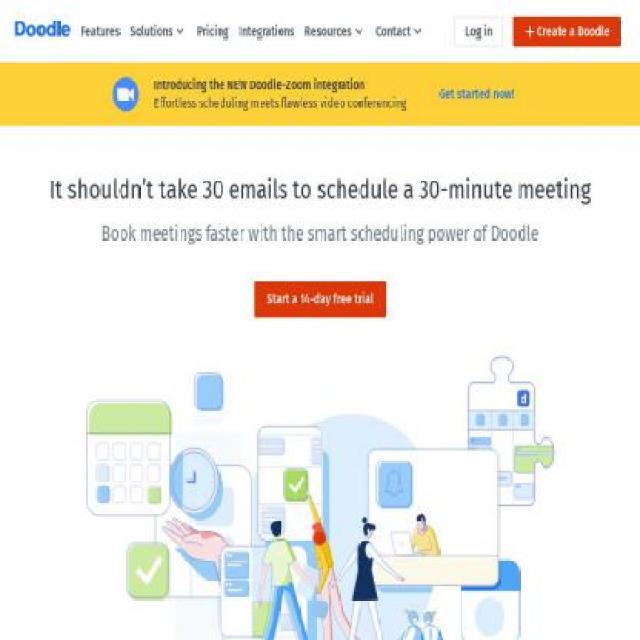button: (254, 280, 386, 318), (426, 76, 528, 112), (513, 16, 621, 47), (299, 16, 372, 47), (125, 16, 192, 47), (234, 16, 300, 47), (371, 16, 429, 47), (454, 16, 503, 47), (76, 16, 124, 47), (192, 16, 234, 47)
